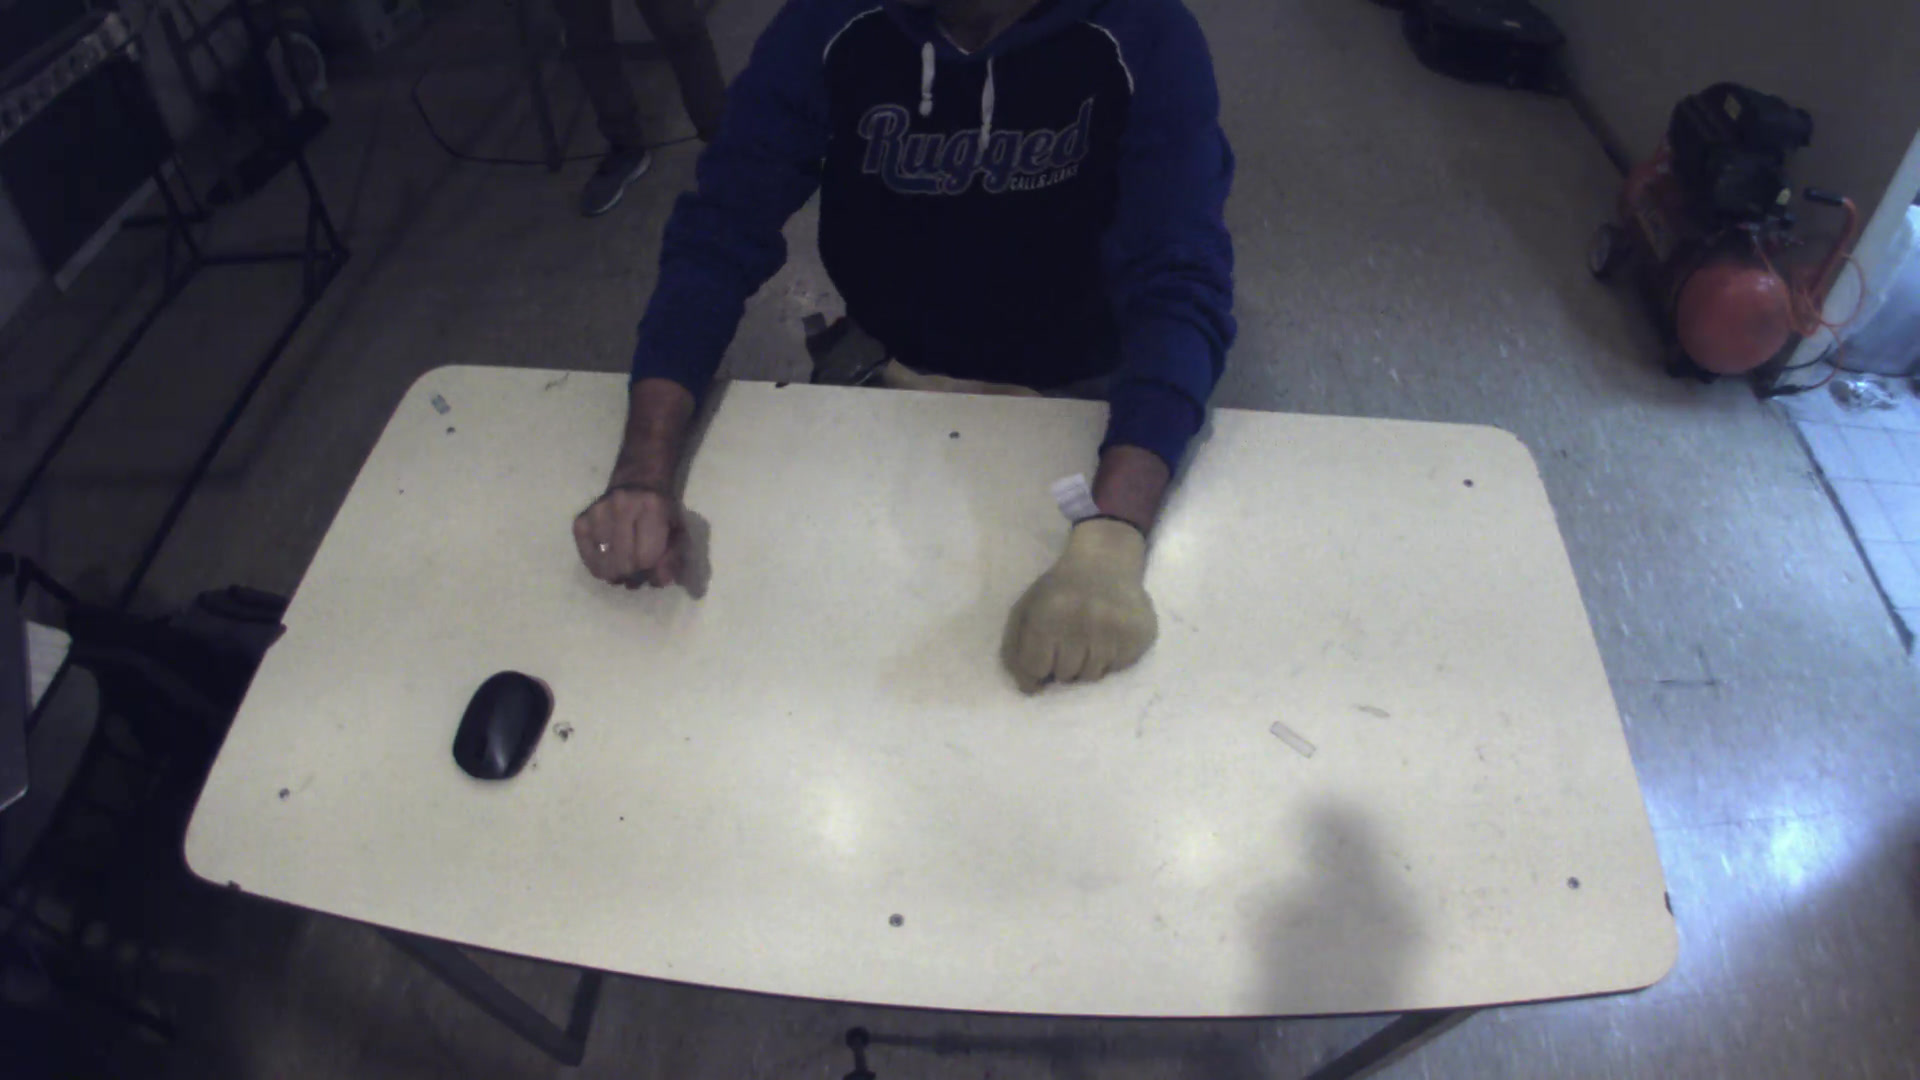hand: (992, 513, 1166, 691), (554, 469, 713, 593)
